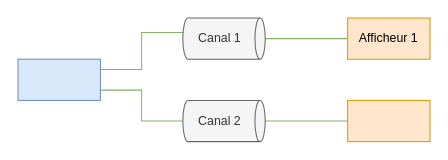
The diagram is 448 pixels wide and 160 high, and some of its shapes have lost their labels. The box of each missing label's shape, as (x1, y1, x2, y2) in pixels:
Afficheur 2: (347, 99, 430, 142)
Capteur: (17, 58, 100, 100)
